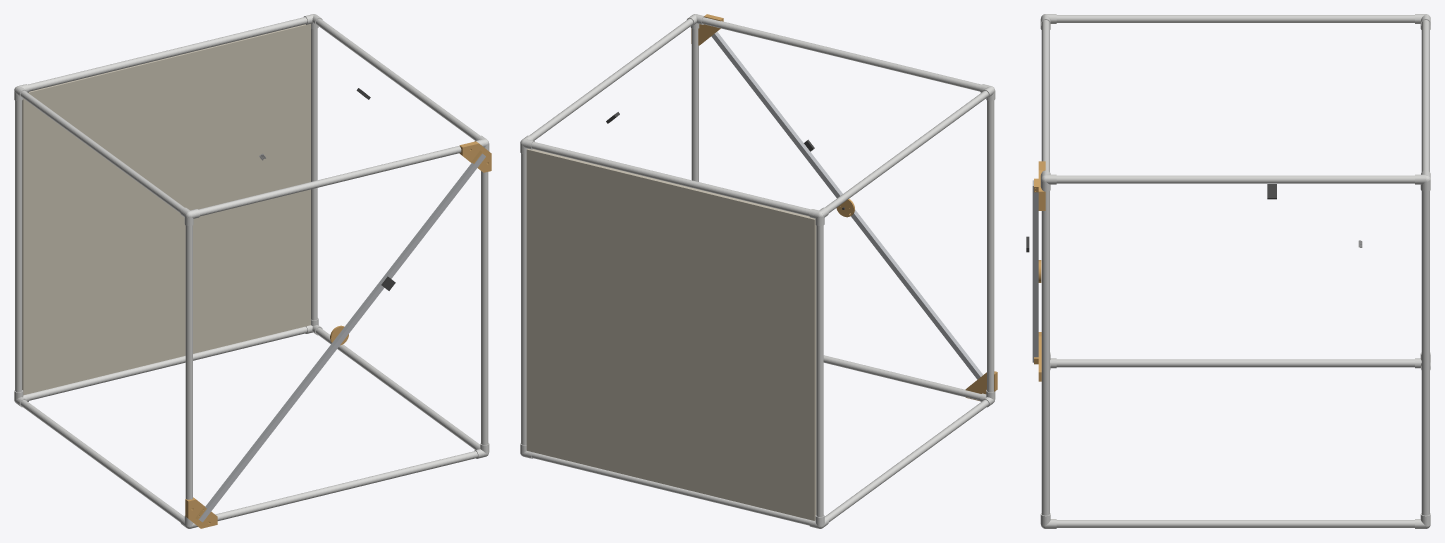
File: camera-bar.glb
3 views of the same model, side by side, from view 1: azimuth 30°, elevation 25°; view 2: azimuth 150°, elevation 25°; view 3: azimuth 270°, elevation 25° (orthographic). The views are drawn at different scales.
Parts seen in each view (by area): view 1: plywood, frame, bar, saddle-1, saddle-0; view 2: plywood, frame, bar; view 3: frame, bar.
Part boxes in pixels (x1,y1,x2,y2): plywood: (22,24,310,395); frame: (14,14,489,528); bar: (199,153,485,522); saddle-1: (459,141,491,172); saddle-0: (185,497,217,528); plywood: (526,149,816,520); frame: (520,14,995,528); bar: (711,31,982,379); frame: (1040,14,1430,528); bar: (1032,180,1038,362).
Size of the model in its own units: 1.28 by 1.28 by 1.33.
